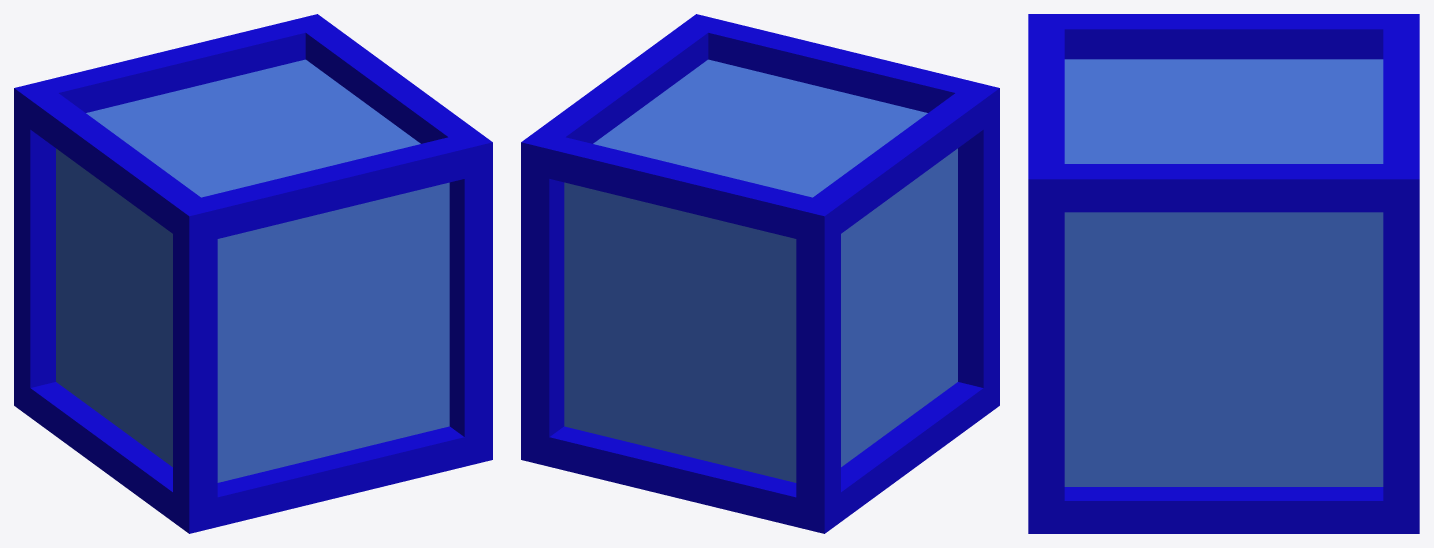
File: bluebox.fbx
The picture shows the model from 3 angles, left to right: view 1: azimuth 30°, elevation 25°; view 2: azimuth 150°, elevation 25°; view 3: azimuth 270°, elevation 25°; orthographic projection. The views are drawn at different scales.
Visible parts, largest first — view 1: Cube.001, Cube; view 2: Cube.001, Cube; view 3: Cube.001, Cube.
Boxes of the visible parts, x1,y1,x2,y2 form: Cube.001: (56,59,449,482); Cube: (14,14,492,533); Cube.001: (564,59,957,482); Cube: (521,14,999,533); Cube.001: (1064,59,1383,486); Cube: (1028,14,1419,533).
Size of the model in its own units: 136 by 136 by 136.
